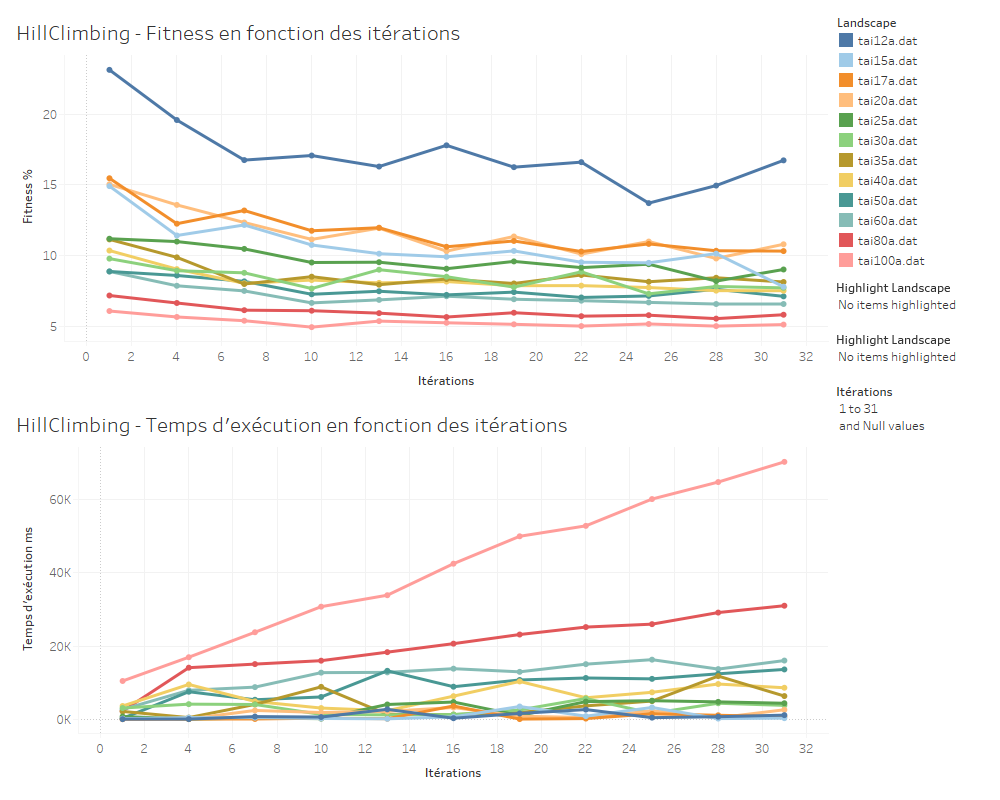

What the dashboard file says about the page in this screenshot:
{"tool":"tableau","page":{"name":"HillClimbing","canvas":[1000,800],"ordinal":0},"visuals":[{"type":"worksheet","title":"HillClimbing - Fitness en fonction des itérations","mark":"Line","rows":["Calculation_1762314897165438979"],"cols":["F5"],"box":[8,8,824,392]},{"type":"legend","title":"HillClimbing - Fitness en fonction des itérations","param":"[federated.04dnjkg0izqc1e169e01b0ksz4hj].[none:F1:nk]","box":[832,8,160,266]},{"type":"highlighter","title":"HillClimbing - Fitness en fonction des itérations","param":"[federated.04dnjkg0izqc1e169e01b0ksz4hj].[none:F1:nk]","box":[832,274,160,52]},{"type":"highlighter","title":"HillClimbing - Temps d'exécution en fonction des itérations","param":"[federated.04dnjkg0izqc1e169e01b0ksz4hj].[none:F1:nk]","box":[832,326,160,52]},{"type":"filter","title":"HillClimbing - Temps d'exécution en fonction des itérations","param":"[federated.04dnjkg0izqc1e169e01b0ksz4hj].[none:F5:qk]","box":[832,378,160,69]},{"type":"worksheet","title":"HillClimbing - Temps d'exécution en fonction des itérations","mark":"Line","rows":["Calculation_1762314897165348866"],"cols":["F5"],"box":[8,400,824,392]}]}

Visuals, with their boxes in screenshot pixels (x1, y1, x2, y2), scaled from the page's 1000x800 canvas onto the 1000x800 screenshot:
"HillClimbing - Fitness en fonction des itérations" worksheet (Line marks): bbox=(8, 8, 832, 400)
"HillClimbing - Fitness en fonction des itérations" legend: bbox=(832, 8, 992, 274)
"HillClimbing - Fitness en fonction des itérations" highlighter: bbox=(832, 274, 992, 326)
"HillClimbing - Temps d'exécution en fonction des itérations" highlighter: bbox=(832, 326, 992, 378)
"HillClimbing - Temps d'exécution en fonction des itérations" filter: bbox=(832, 378, 992, 447)
"HillClimbing - Temps d'exécution en fonction des itérations" worksheet (Line marks): bbox=(8, 400, 832, 792)
